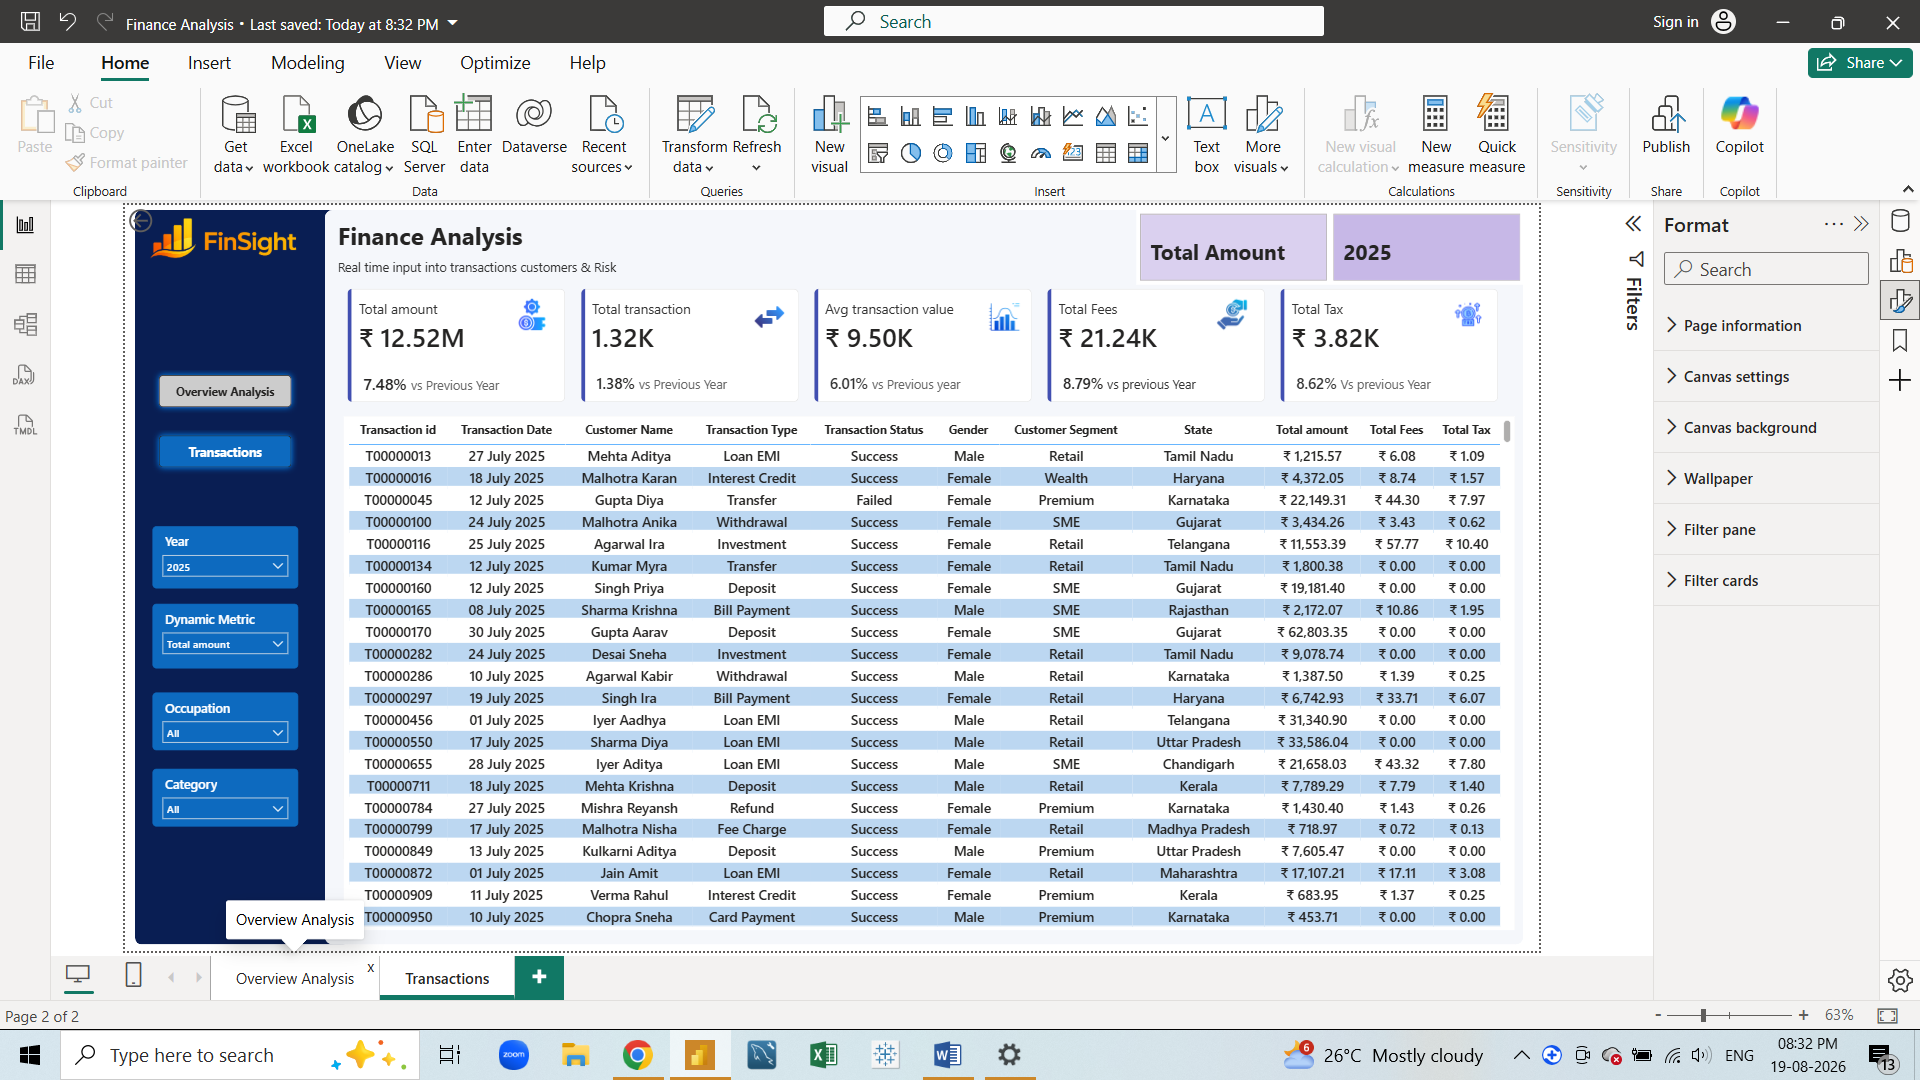

This screenshot's page, from the dashboard's own definition file:
{"tool":"powerbi","page":{"name":"Transactions","canvas":[1800,950],"ordinal":1},"visuals":[{"type":"shape","box":[13.5,6.7,273,935.4],"z":0},{"type":"shape","box":[255.4,6.2,1525.7,935.3],"z":1000},{"type":"image","box":[0,0,254.7,86],"z":2000},{"type":"cardVisual","fields":{"Data":["finance_transactions.Dashboard Title","select"]},"box":[265.7,6.2,483,95.1],"z":3000},{"type":"cardVisual","fields":{"Data":["finance_transactions.Total amount","finance_transactions.Total transaction","finance_transactions.Avg transaction value","finance_transactions.Total Fees","finance_transactions.Total Tax"]},"box":[278.2,101.7,1479.1,154.6],"z":4000},{"type":"image","box":[493.5,114.6,50,50],"z":5000},{"type":"image","box":[1685.7,114.6,50,50],"z":6000},{"type":"image","box":[795.9,117.8,50,50],"z":7000},{"type":"image","box":[1095.2,117.8,50,50],"z":8000},{"type":"image","box":[1384.9,114.6,50,50],"z":9000},{"type":"shape","box":[278.3,269.7,1491.5,654.2],"z":10000},{"type":"cardVisual","fields":{"Data":["finance_transactions.Selected Dynamic Measure","finance_transactions.Selected Year"]},"box":[1287.2,6.2,494.1,95.5],"z":11000},{"type":"tableEx","fields":{"Values":["finance_transactions.transaction_id","finance_transactions.transaction_date","customers.Customer Name","finance_transactions.transaction_type","finance_transactions.transaction_status","customers.gender","customers.customer_segment","customers.state","finance_transactions.Total amount","finance_transactions.Total Fees","finance_transactions.Total Tax"]},"box":[278.3,269.7,1491.1,654.5],"z":12000},{"type":"actionButton","box":[0,0,100,40],"z":13000},{"type":"slicer","fields":{"Values":["Calender Table.Year"]},"box":[34.4,408.9,185.5,79],"z":14000},{"type":"slicer","fields":{"Values":["Dynamic Metric.Dynamic Metric"]},"box":[34.4,508.5,185.5,82.5],"z":15000},{"type":"slicer","fields":{"Values":["customers.occupation"]},"box":[34.4,620.2,185.5,73.9],"z":16000},{"type":"slicer","fields":{"Values":["finance_transactions.merchant_category"]},"box":[34.4,718.1,185.5,73.9],"z":17000},{"type":"pageNavigator","box":[34.4,207.9,185.5,135.7],"z":18000}]}

Visuals, with their boxes on the page's 1800x950 design canvas (x1, y1, x2, y2). These are canvas units, not pixel positions in the 1920x1080 screenshot, which may show the page scaled, cropped or inside an application window:
shape: [14,7,286,942]
shape: [255,6,1781,942]
image: [0,0,255,86]
cardVisual - finance_transactions.Dashboard Title x select: [266,6,749,101]
cardVisual - finance_transactions.Total amount x finance_transactions.Total transaction: [278,102,1757,256]
image: [494,115,544,165]
image: [1686,115,1736,165]
image: [796,118,846,168]
image: [1095,118,1145,168]
image: [1385,115,1435,165]
shape: [278,270,1770,924]
cardVisual - finance_transactions.Selected Dynamic Measure x finance_transactions.Selected Year: [1287,6,1781,102]
tableEx - finance_transactions.transaction_id x finance_transactions.transaction_date: [278,270,1769,924]
actionButton: [0,0,100,40]
slicer - Calender Table.Year: [34,409,220,488]
slicer - Dynamic Metric.Dynamic Metric: [34,508,220,591]
slicer - customers.occupation: [34,620,220,694]
slicer - finance_transactions.merchant_category: [34,718,220,792]
pageNavigator: [34,208,220,344]
